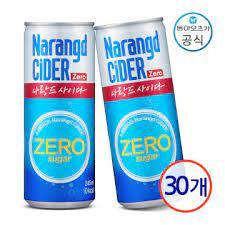narangdcider: (93, 17, 187, 208), (22, 21, 96, 211)
